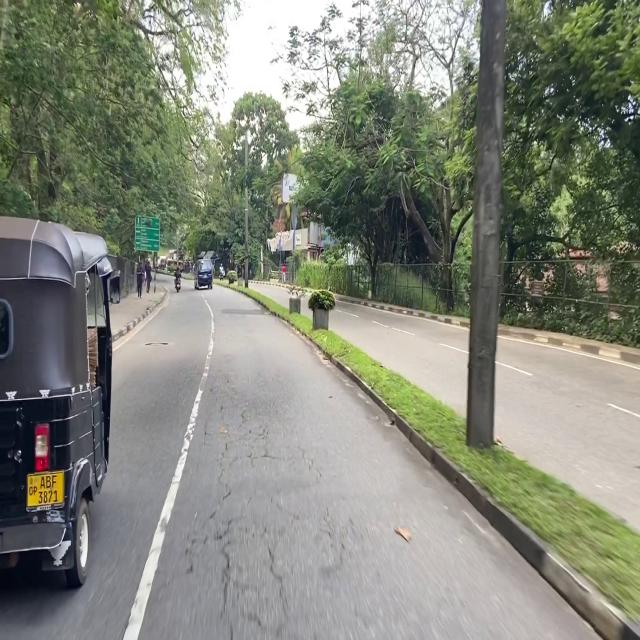bus: (167, 249, 183, 271)
motorcycle: (175, 278, 181, 293)
person: (144, 260, 152, 293), (137, 262, 144, 297), (174, 264, 181, 278), (281, 264, 286, 283)
three wheeler: (0, 217, 119, 587), (160, 258, 166, 269)
van: (195, 259, 212, 289)
